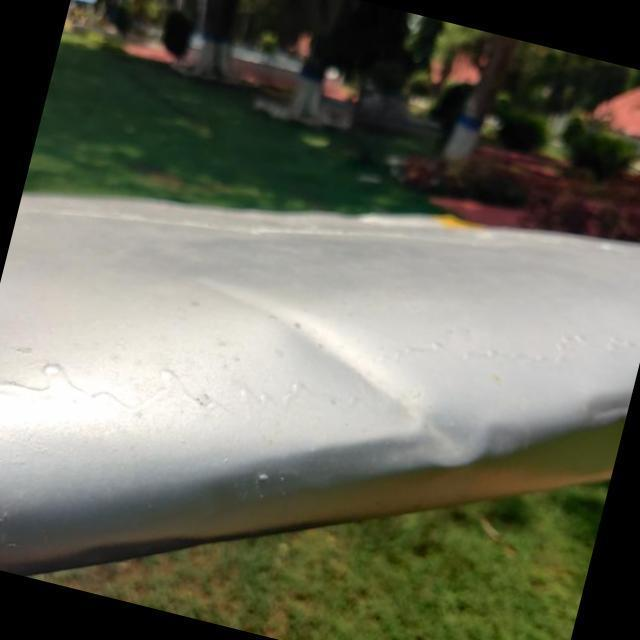dent: (233, 288, 532, 476), (578, 390, 631, 427)
